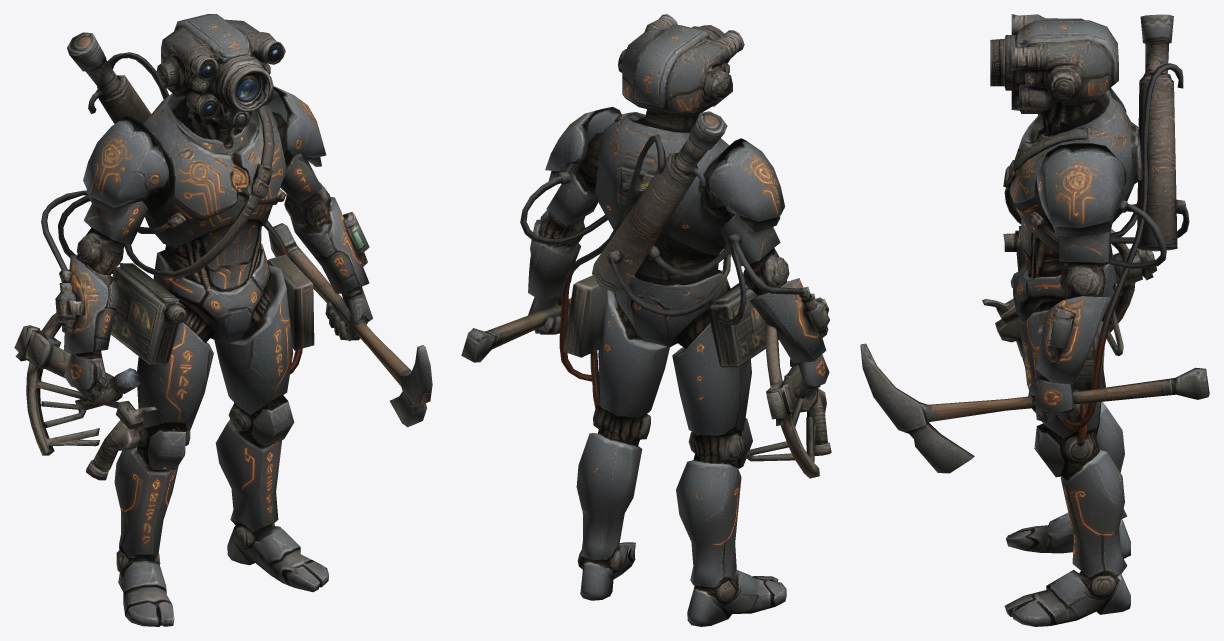
The picture shows the model from 3 angles, left to right: view 1: azimuth 30°, elevation 25°; view 2: azimuth 150°, elevation 25°; view 3: azimuth 270°, elevation 25°; orthographic projection.
Visible parts, largest first — view 1: tripo_node_6e4cdf1e-acae-44fd-92f2-e75198eff04c; view 2: tripo_node_6e4cdf1e-acae-44fd-92f2-e75198eff04c; view 3: tripo_node_6e4cdf1e-acae-44fd-92f2-e75198eff04c.
Boxes of the visible parts, x1=… form: tripo_node_6e4cdf1e-acae-44fd-92f2-e75198eff04c: x1=14, y1=14, x2=432, y2=626; tripo_node_6e4cdf1e-acae-44fd-92f2-e75198eff04c: x1=461, y1=14, x2=831, y2=626; tripo_node_6e4cdf1e-acae-44fd-92f2-e75198eff04c: x1=860, y1=14, x2=1209, y2=626.
Size of the model in its own units: 0.5762 by 0.998 by 0.5723.
Materials: 1 (1 with a texture image).
